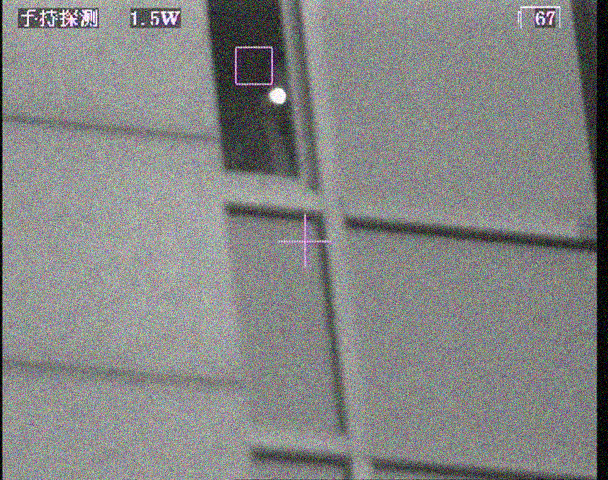my: (268, 86, 287, 104)
